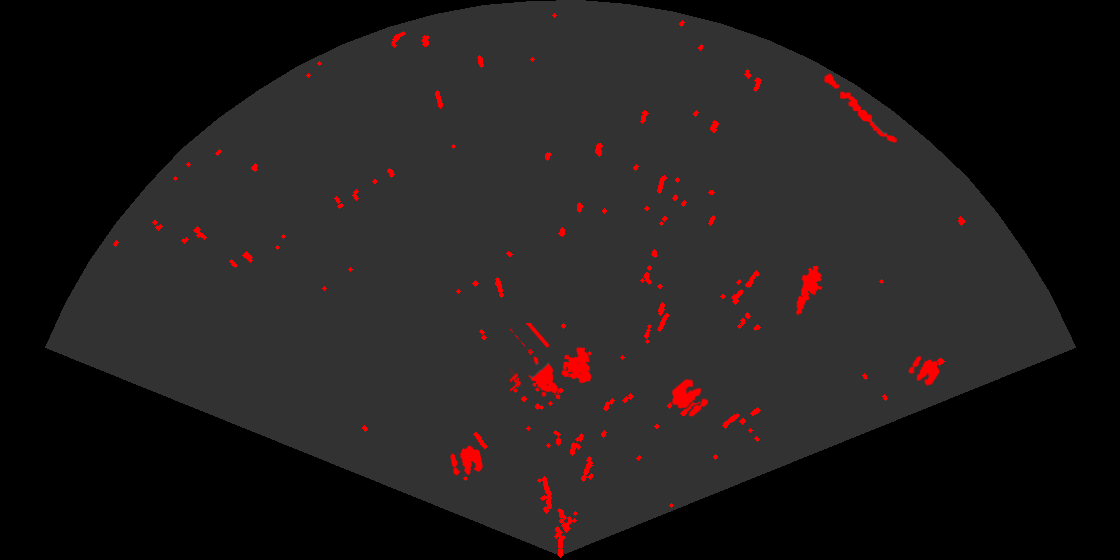ball: (670, 377, 710, 418), (449, 444, 484, 477), (907, 354, 942, 387)
cage: (510, 323, 593, 401)
chain: (823, 72, 899, 144)
frogman: (795, 266, 824, 316)
